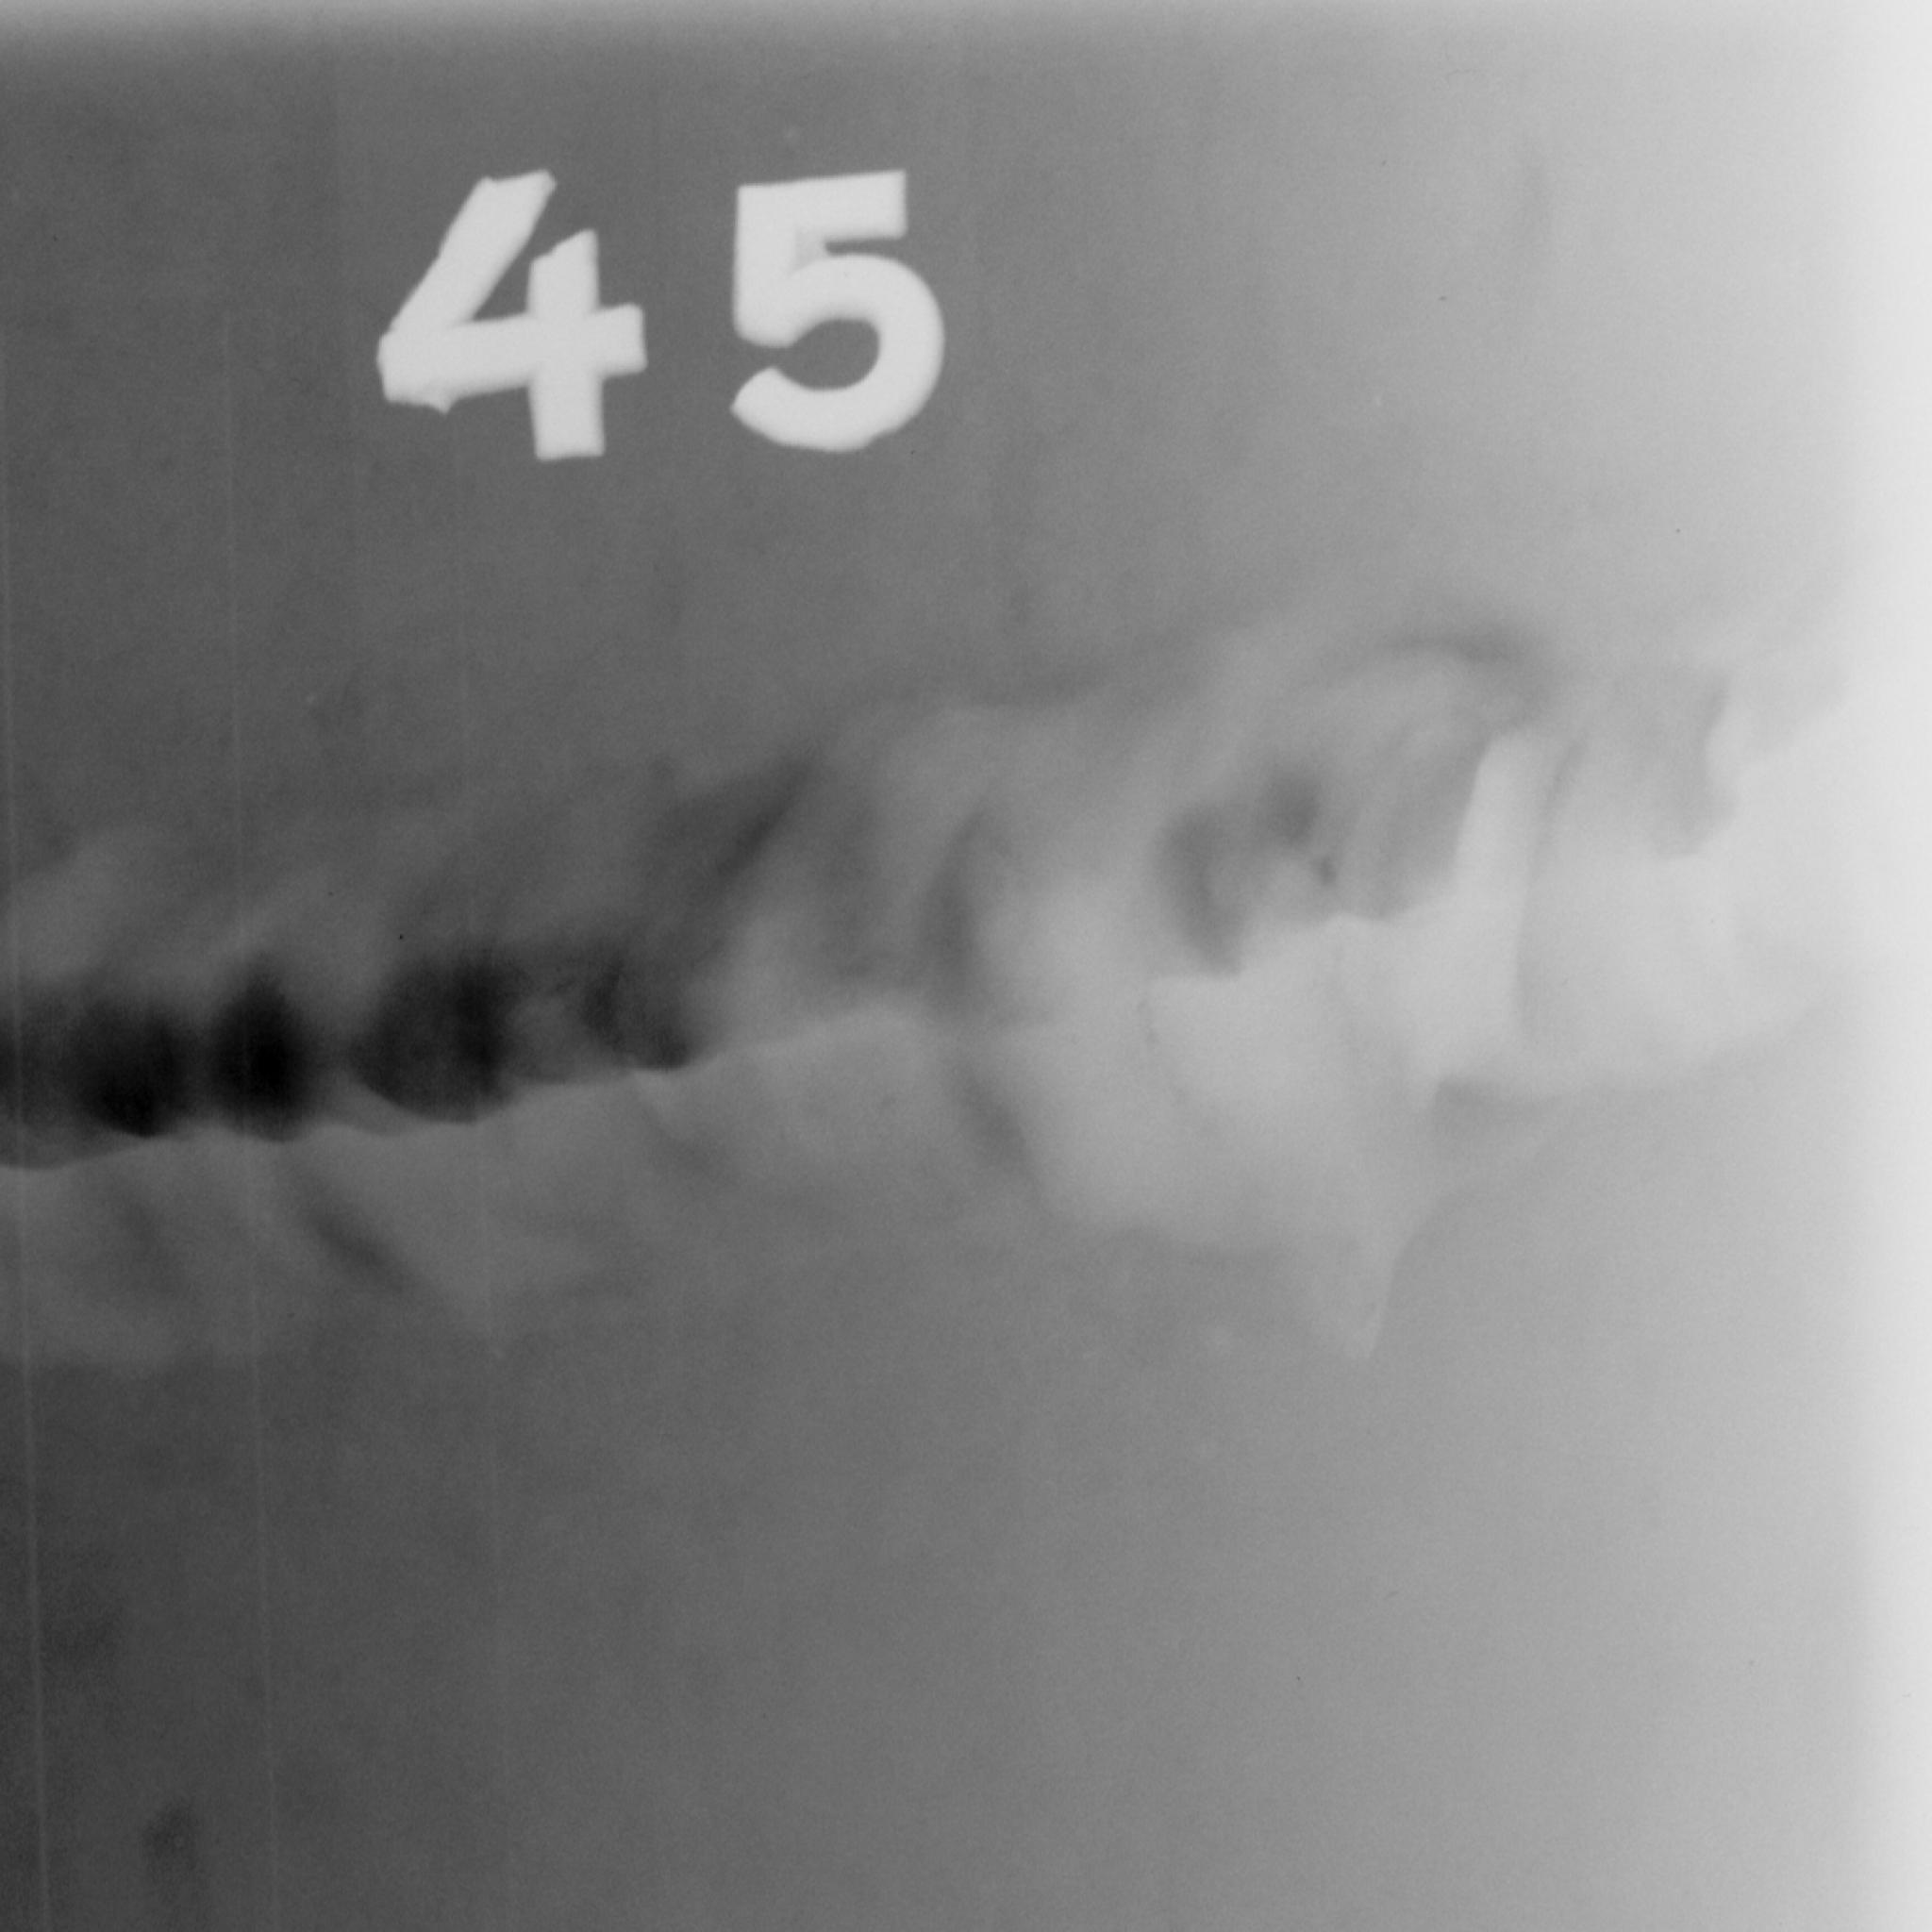PO: (393, 927, 410, 945), (322, 885, 340, 902)
Solda Ruim: (0, 600, 1805, 1412)
